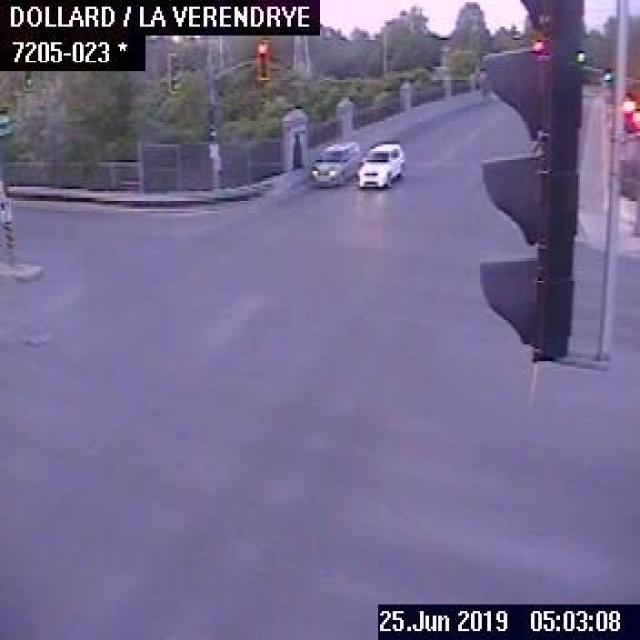vehicle: (355, 138, 405, 191), (310, 140, 356, 188)
